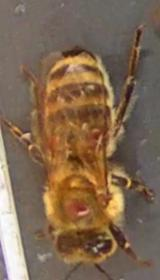varroa_mite: (55, 191, 101, 219), (82, 121, 113, 144), (43, 125, 66, 152)
